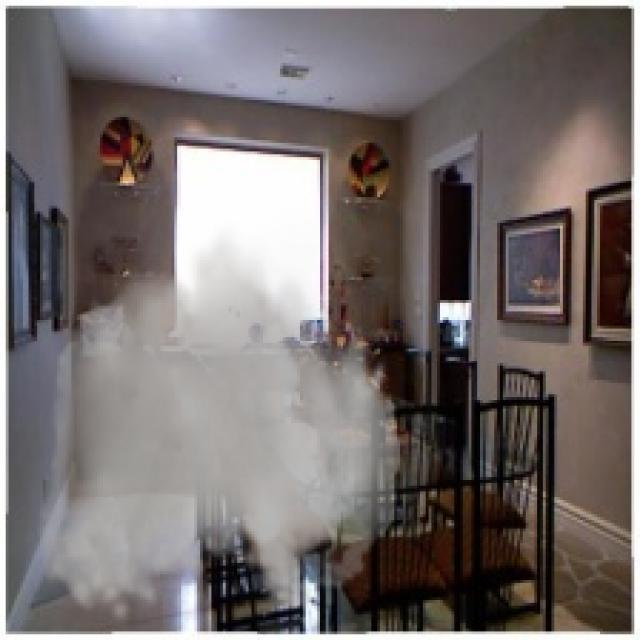Smoke: (37, 220, 400, 623)
